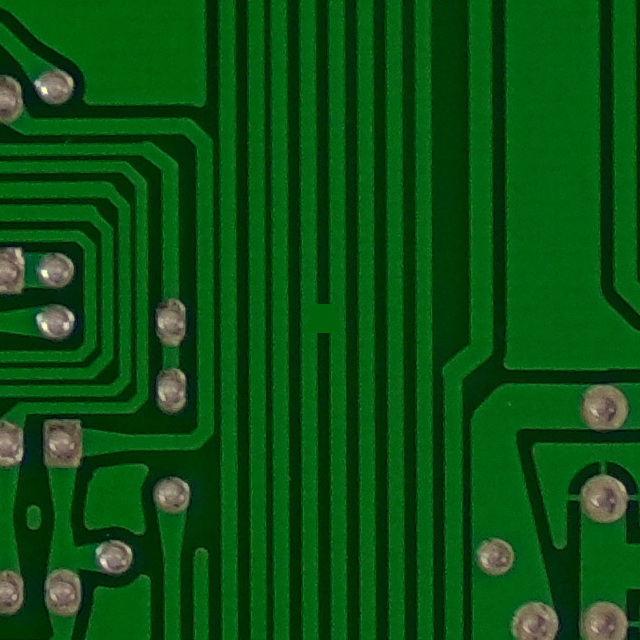short: (289, 294, 351, 346)
